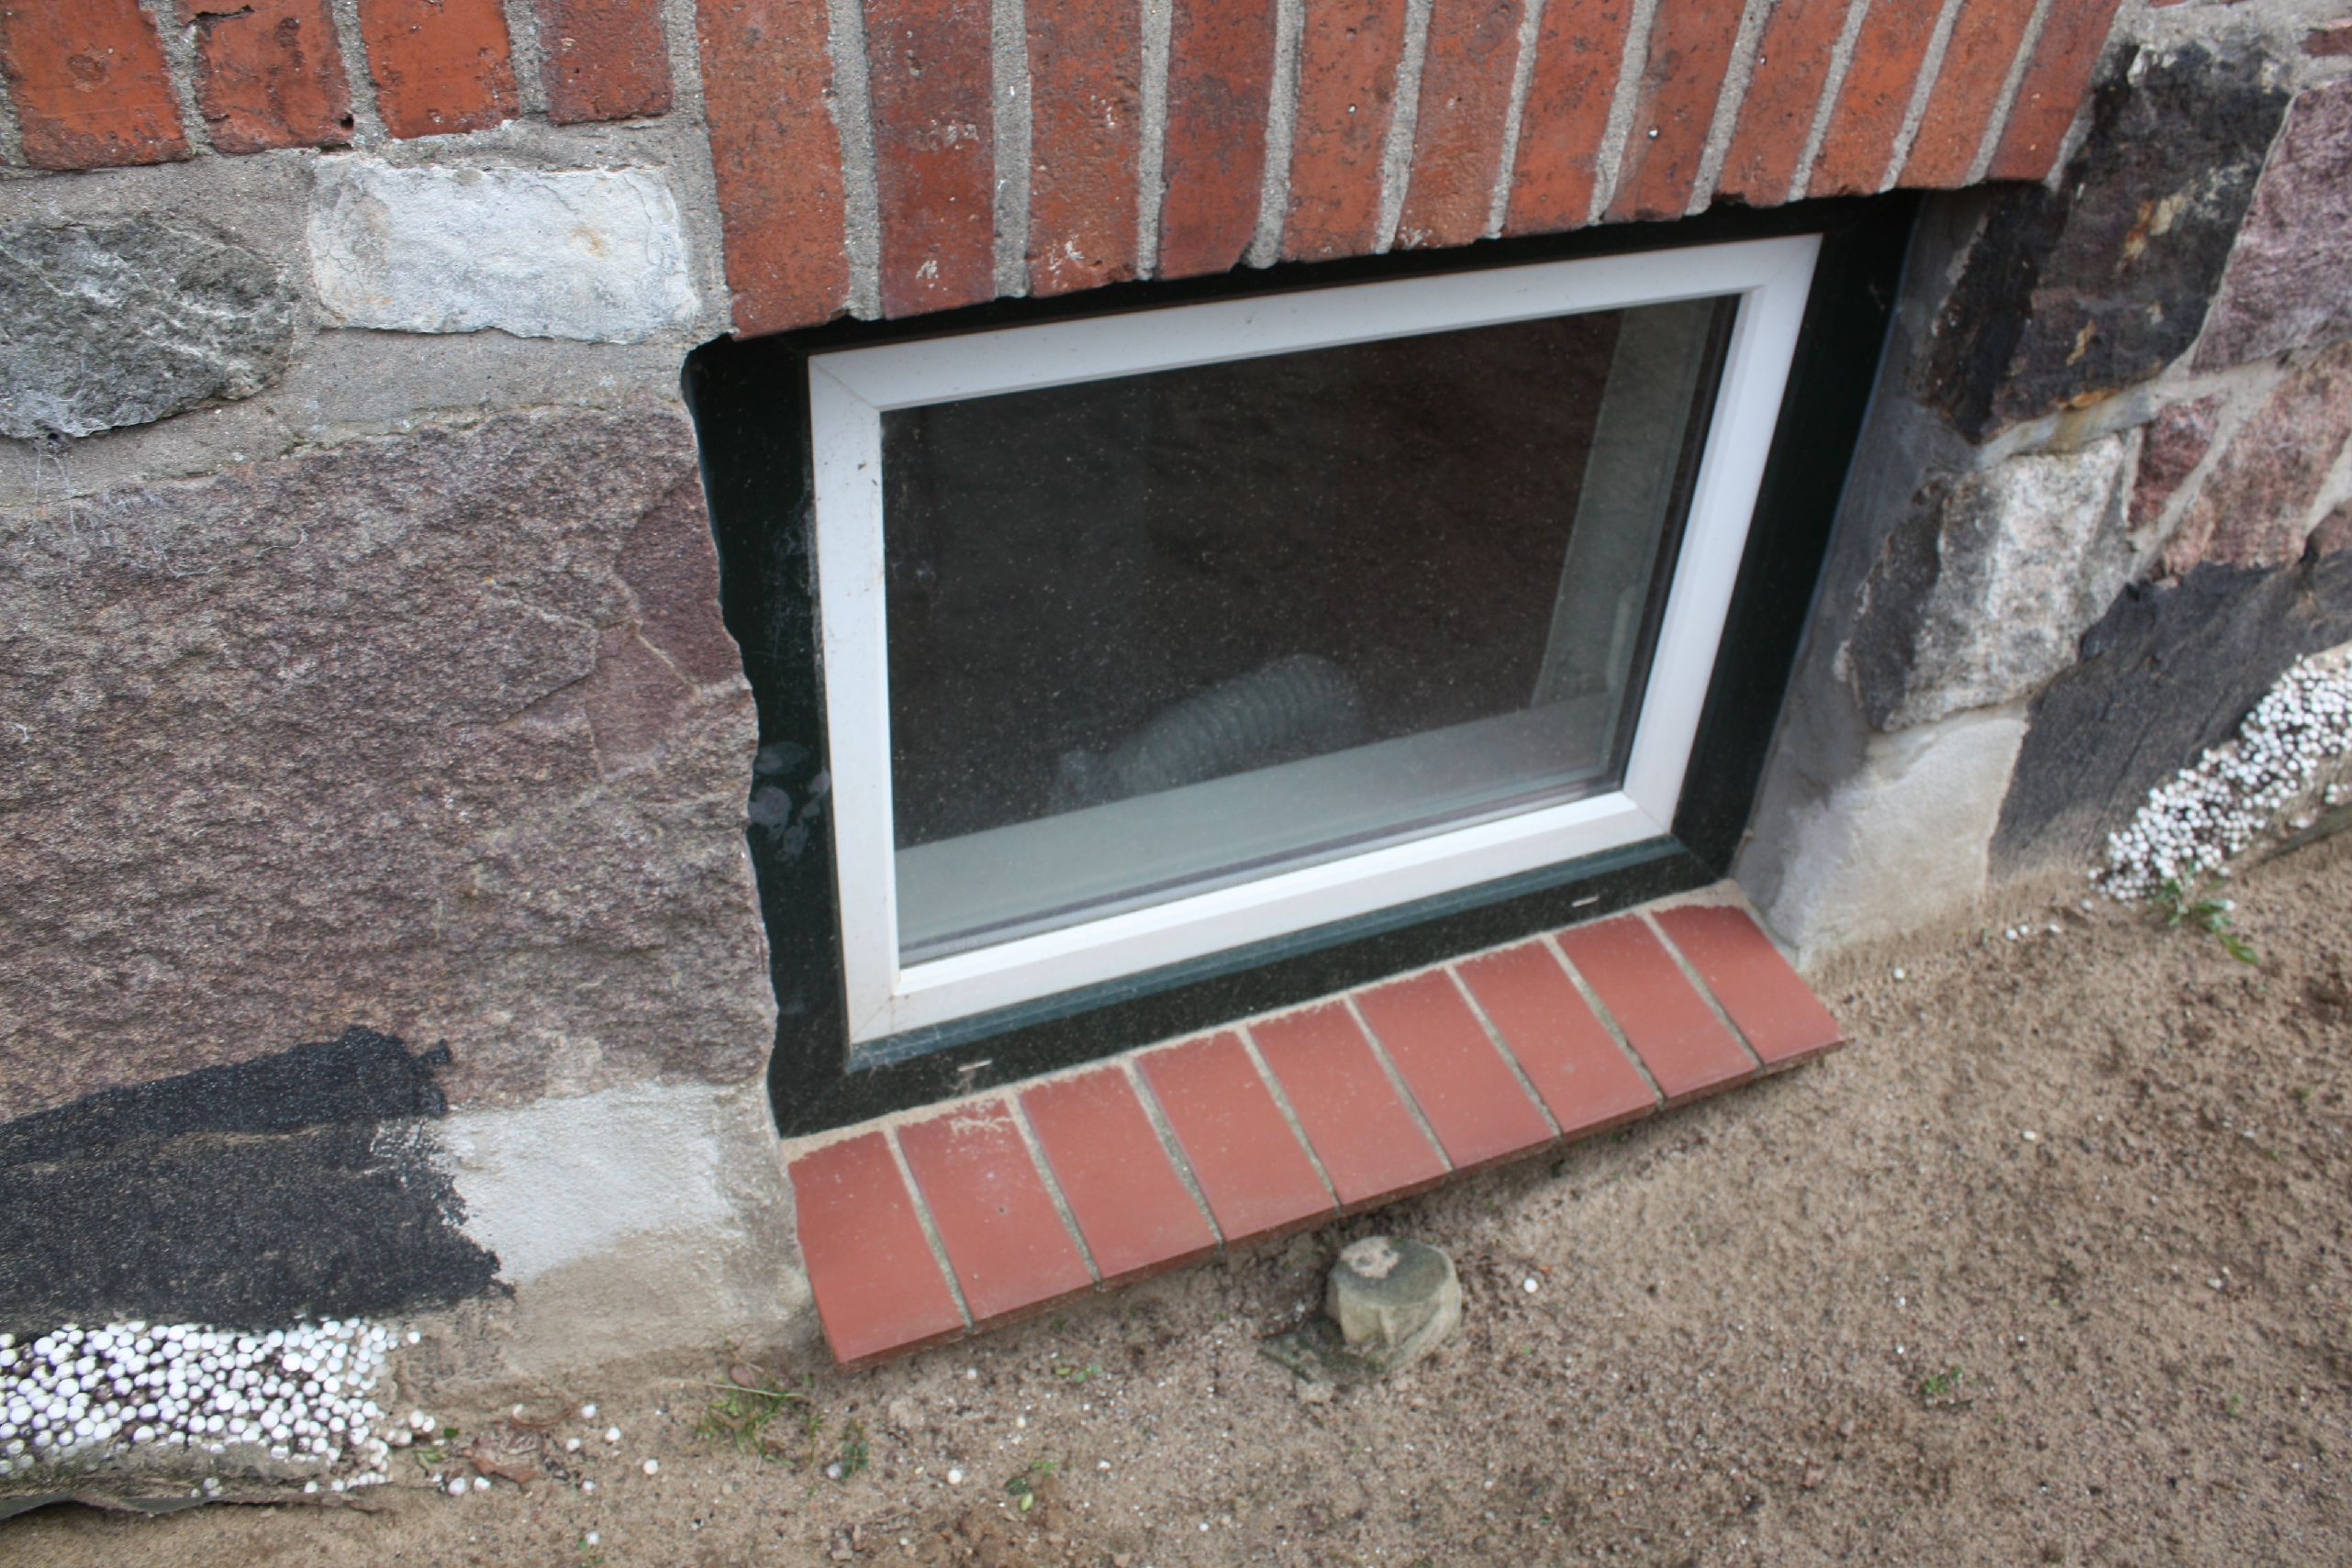windows: (789, 331, 1740, 905)
